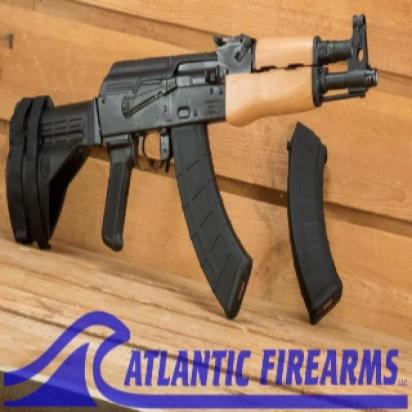Gun: (1, 20, 399, 322)
